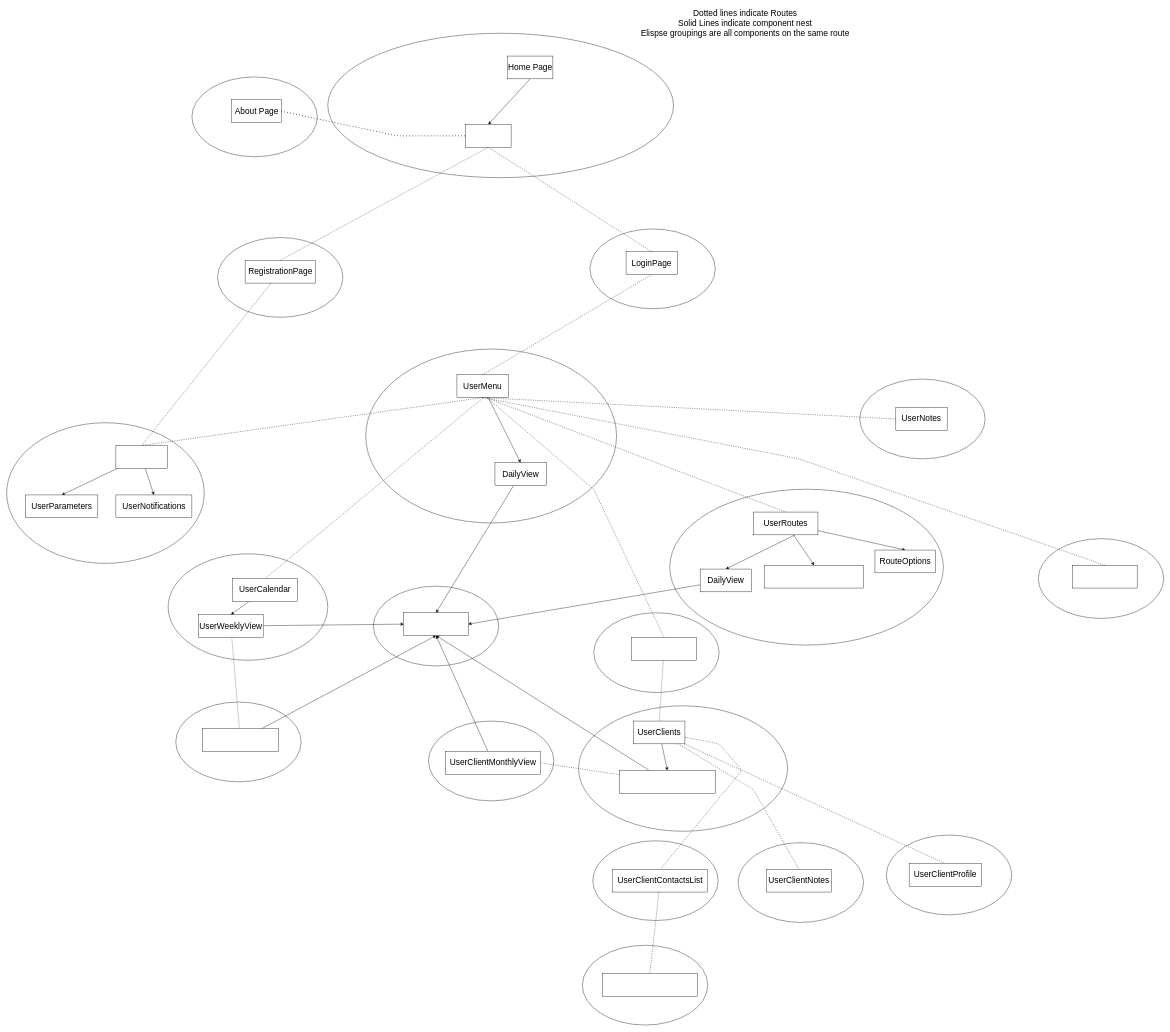
The diagram is 1170 pixels wide and 1032 high, and some of its shapes have lost their labels. Each missing label, with the box of its shape:
EventForm: (403, 612, 468, 636)
Navbar: (465, 124, 511, 147)
UserClientContact: (602, 973, 697, 997)
UserClientList: (631, 637, 696, 660)
UserClientWeeklyView: (619, 770, 715, 793)
UserMonthlyView: (202, 728, 278, 751)
UserProfile: (116, 445, 167, 468)
UserReports: (1072, 565, 1137, 588)
UserTempParameters: (764, 565, 864, 588)
